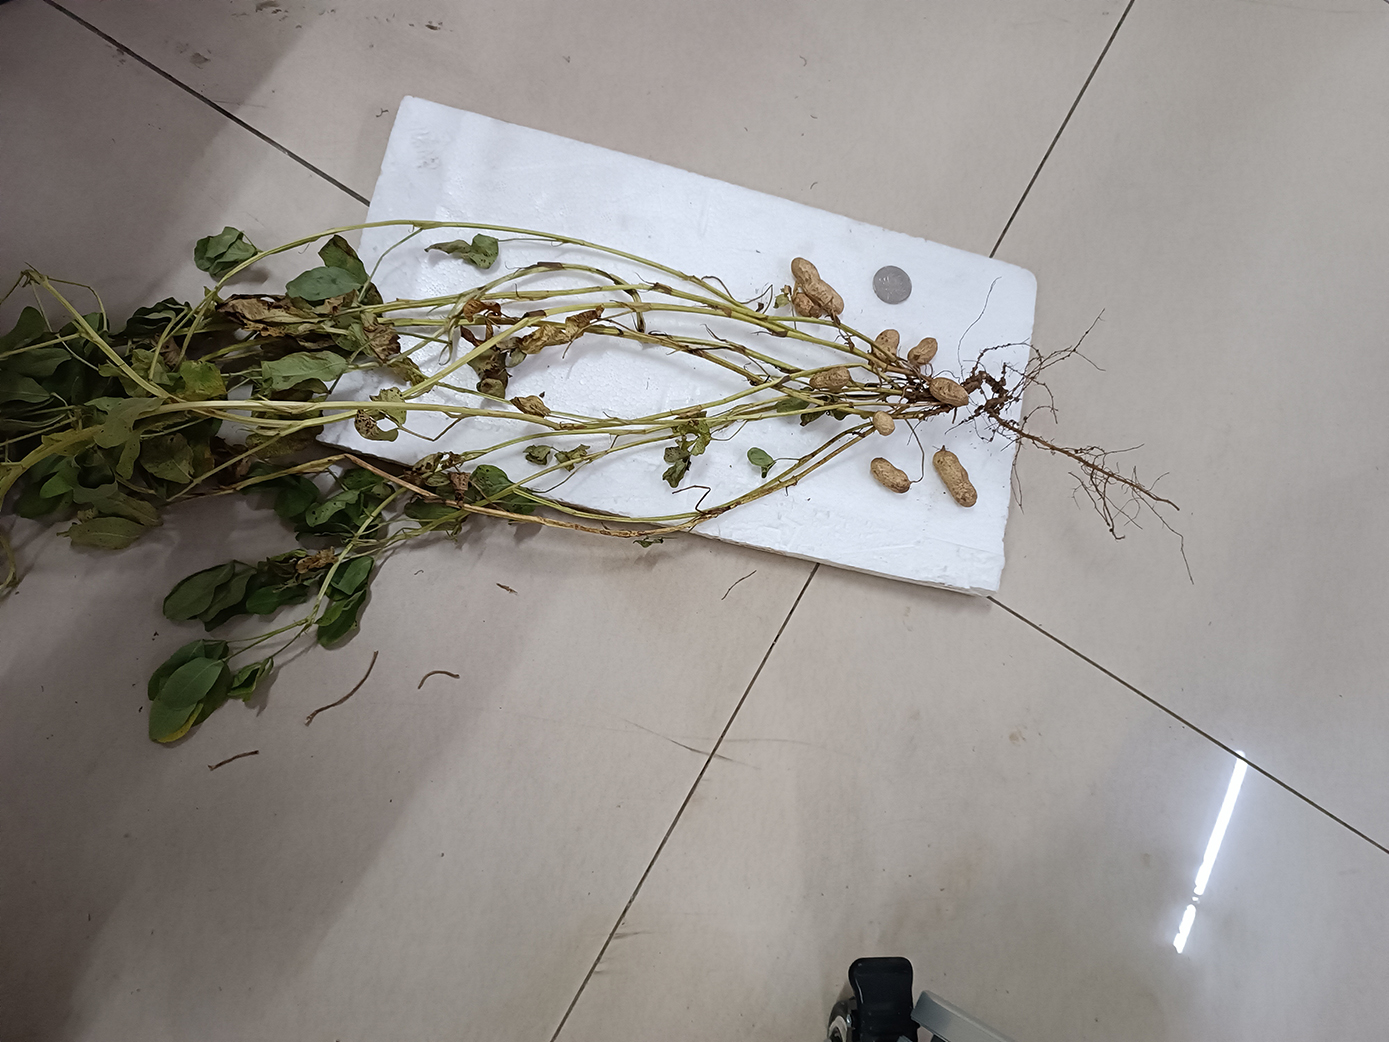h: (790, 257, 844, 313), (931, 450, 979, 507), (870, 458, 912, 494), (929, 377, 969, 408), (809, 366, 850, 392), (906, 337, 939, 366), (872, 328, 900, 361), (872, 412, 895, 436)
l: (792, 292, 822, 319)
